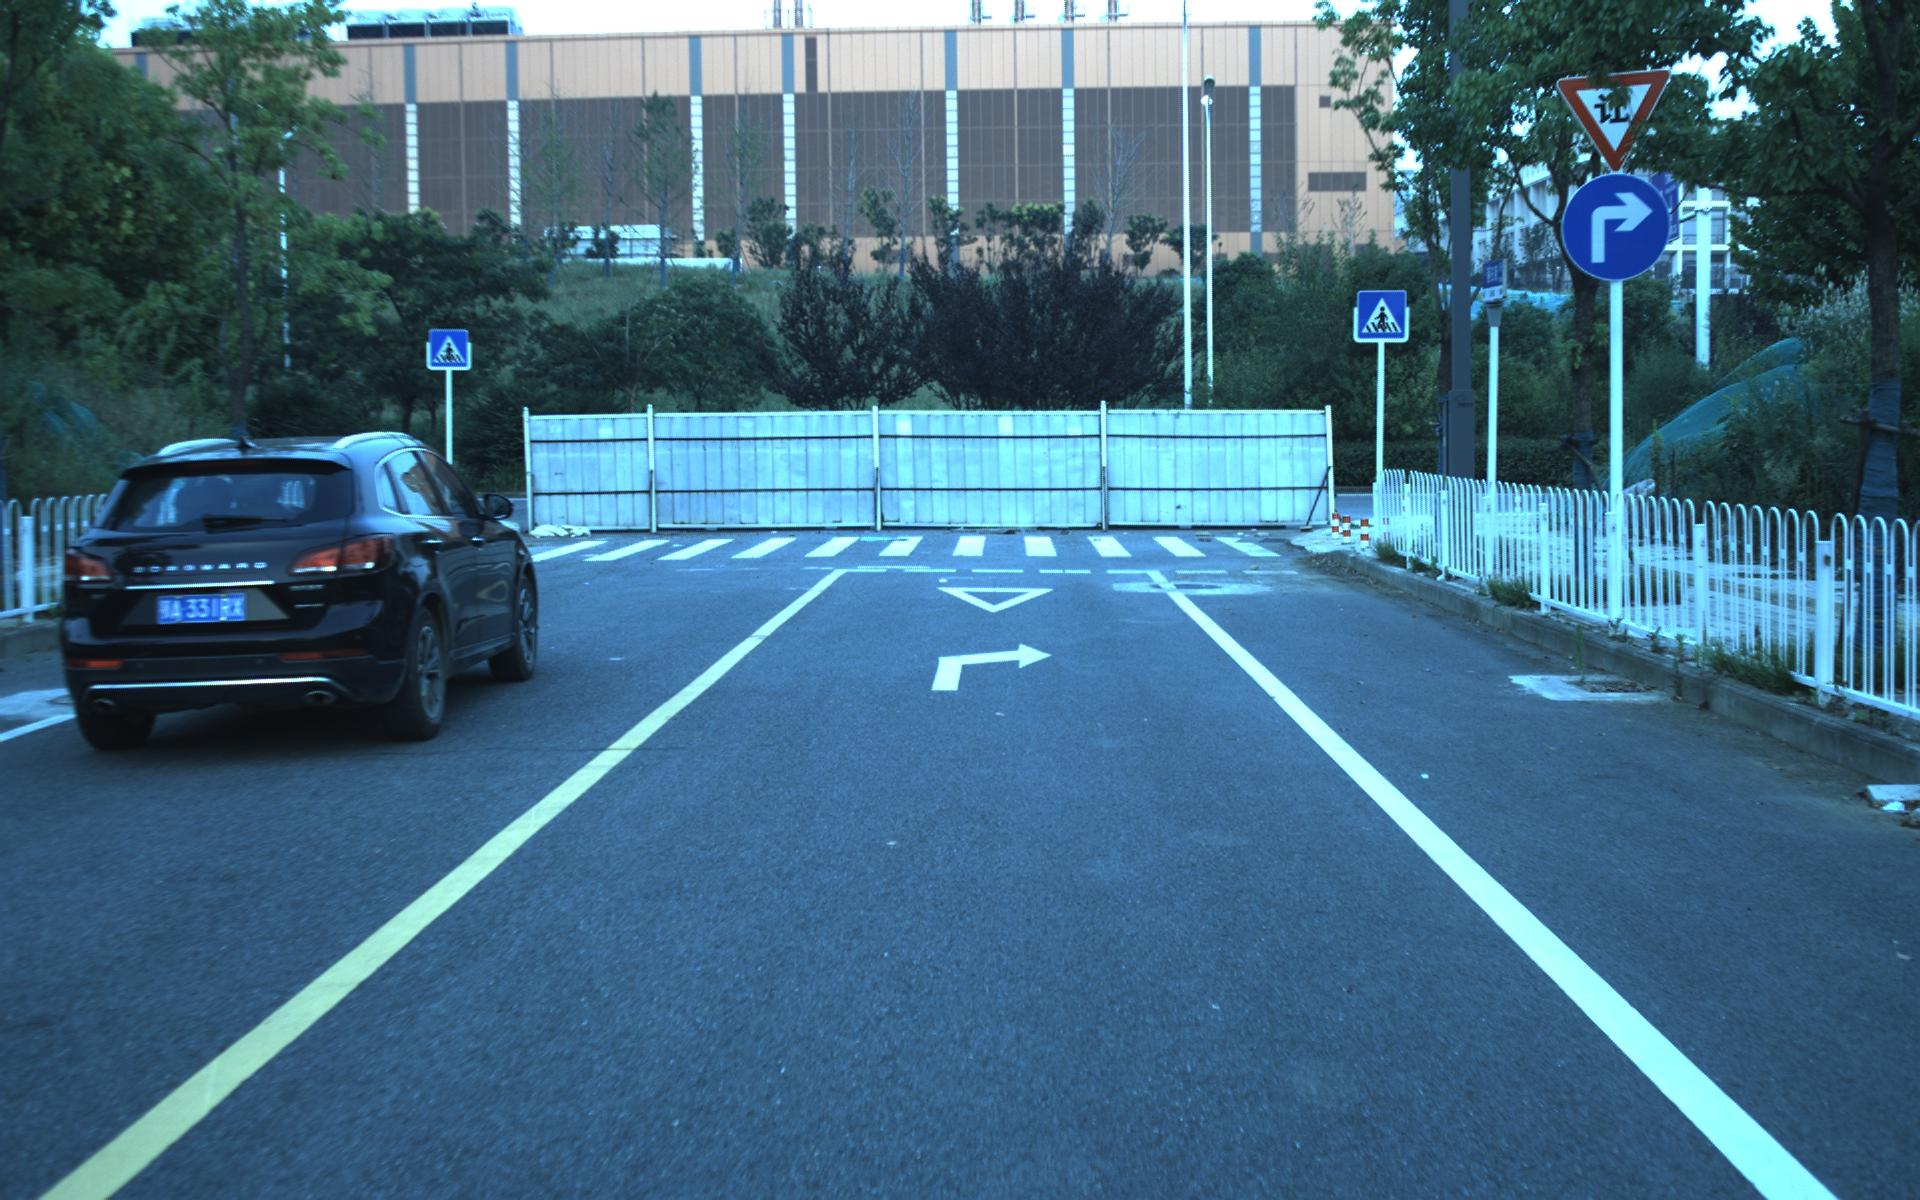Car: (43, 418, 549, 756)
